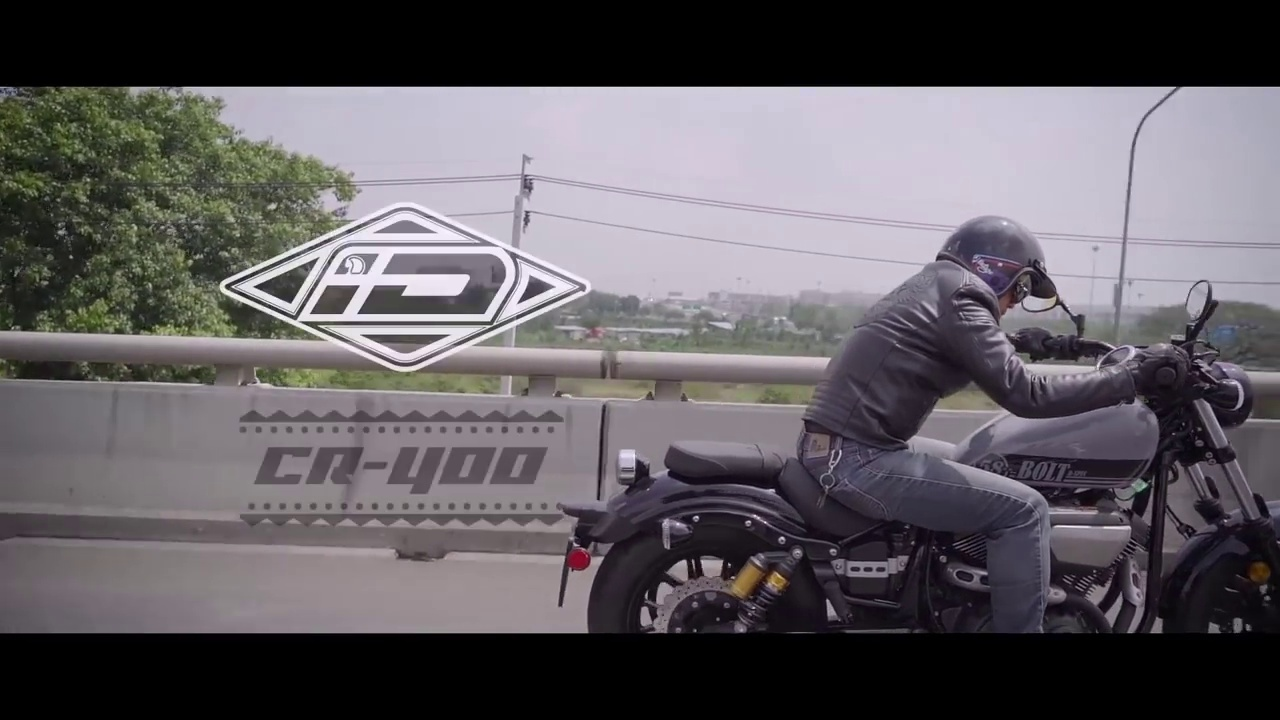helmet: (938, 201, 1056, 299)
